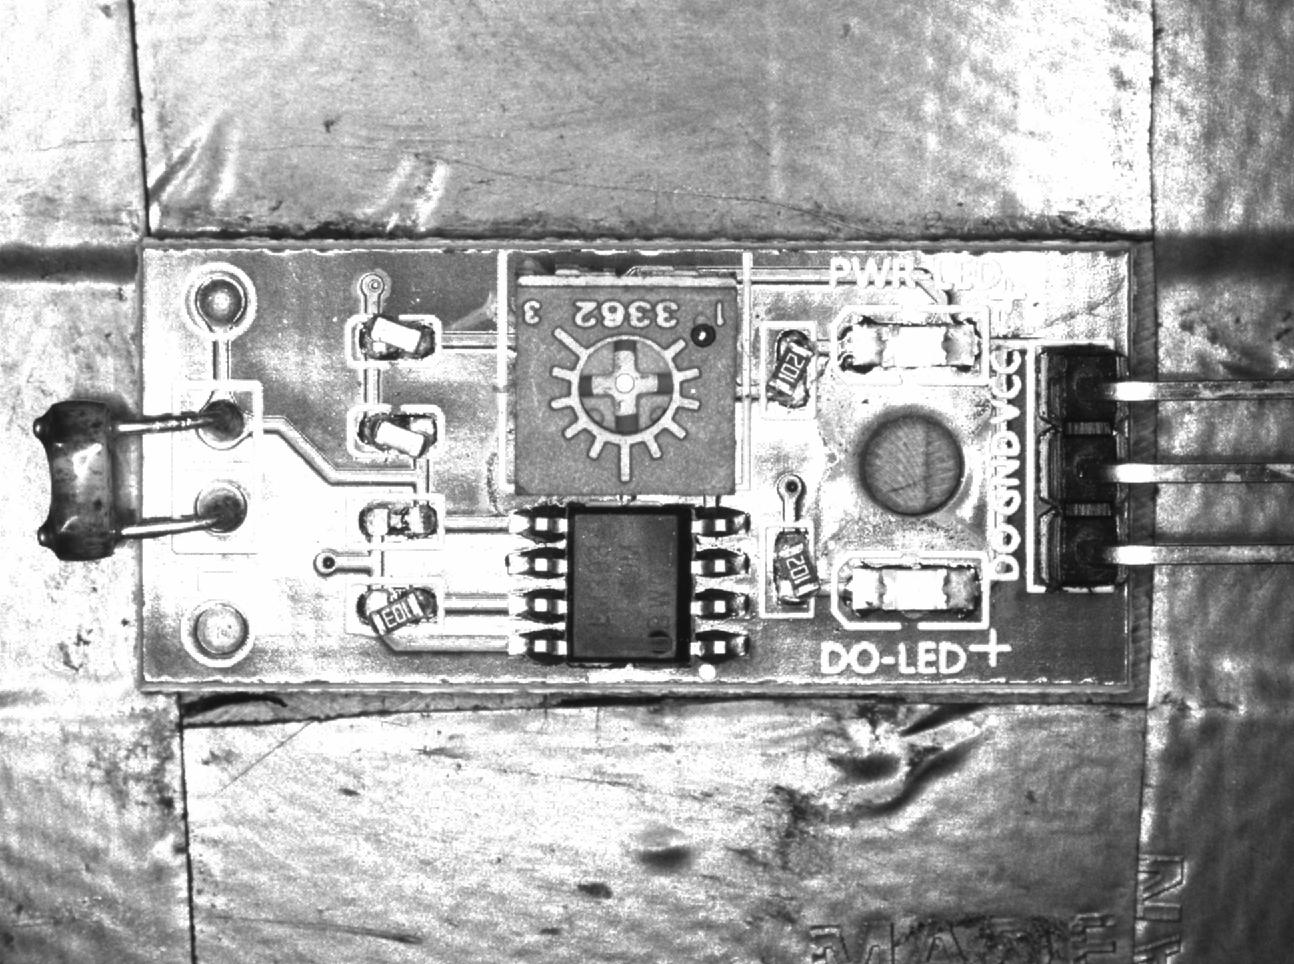lifted: (343, 405, 441, 465), (762, 319, 816, 427), (345, 580, 444, 636), (347, 316, 446, 366), (764, 524, 818, 614)
miss: (344, 496, 448, 548)
